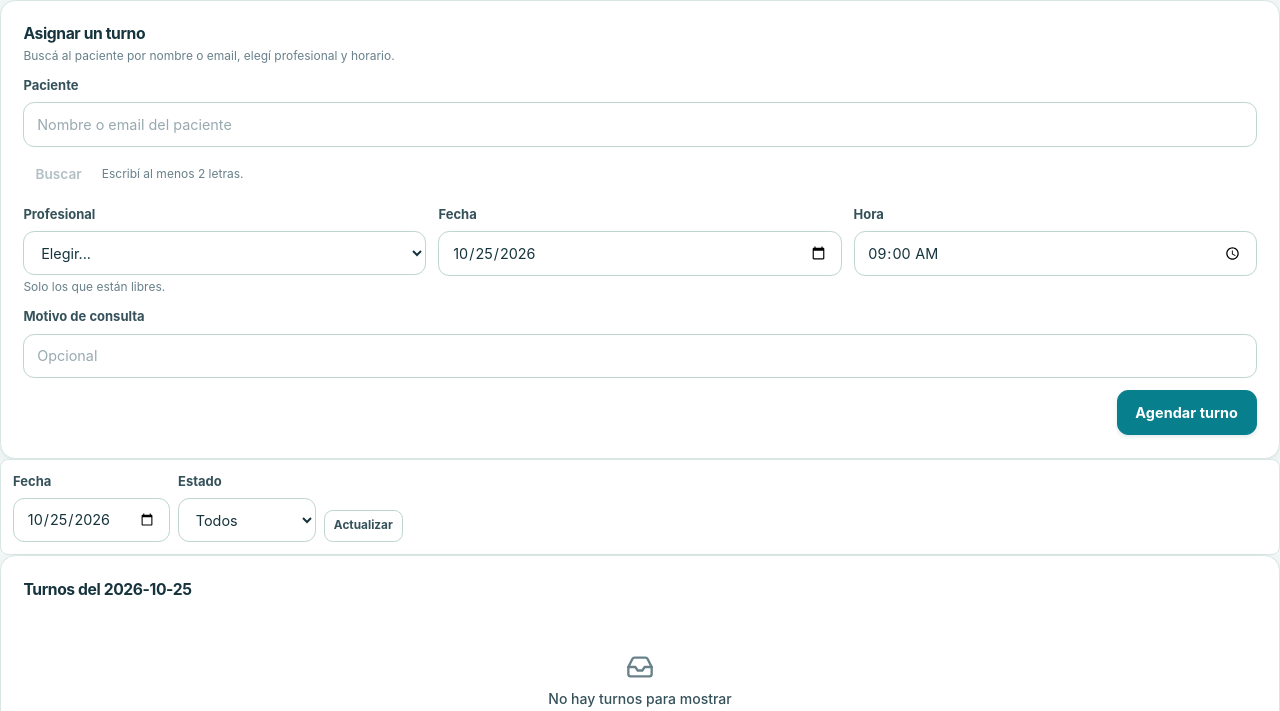
Recepción — asignar turno › valida paciente y profesional, y no permite una fecha pasada
Click the button "Agendar turno": (1187, 413) [1117,390,1257,435]
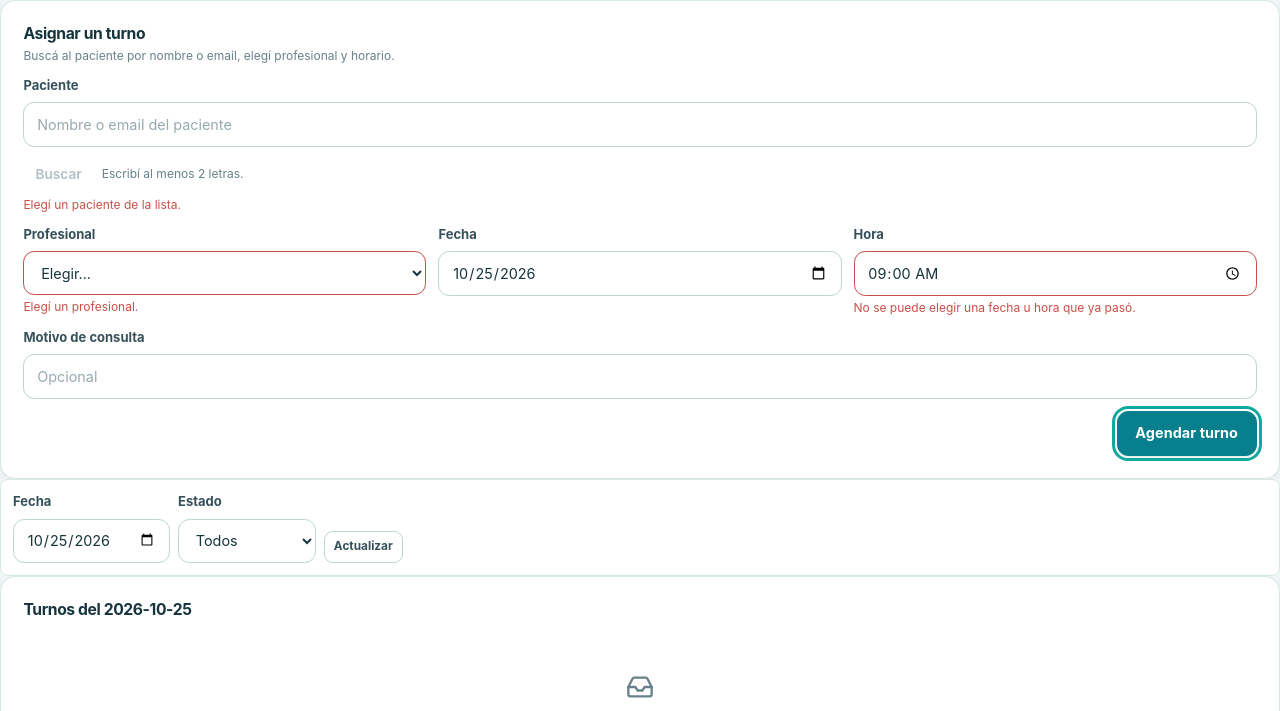
expect the text "Elegí un paciente de la lista." is shown: met, box [23,197,181,212]
expect the text "Elegí un profesional." is shown: met, box [23,299,138,314]
